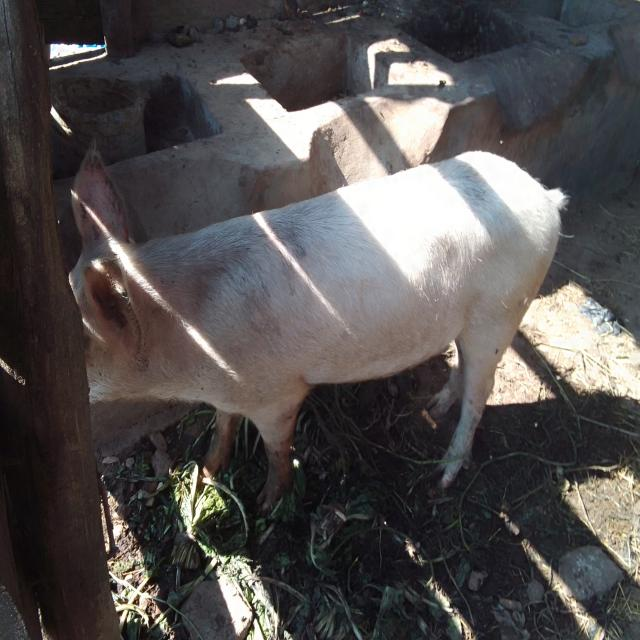pig: (17, 114, 608, 567)
